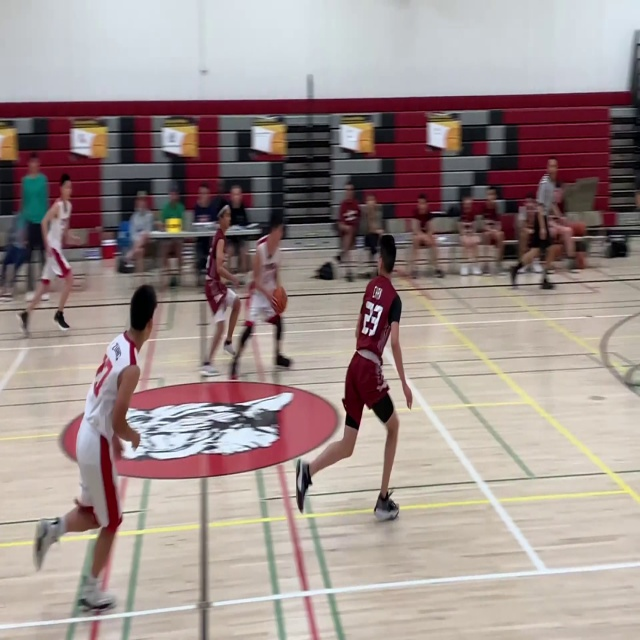Basketball: (271, 286, 287, 314)
